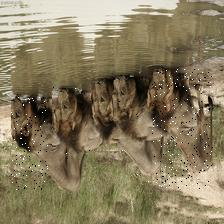Lion: (152, 69, 213, 189), (115, 76, 158, 182), (12, 95, 49, 189), (53, 86, 93, 153), (90, 80, 116, 146)
